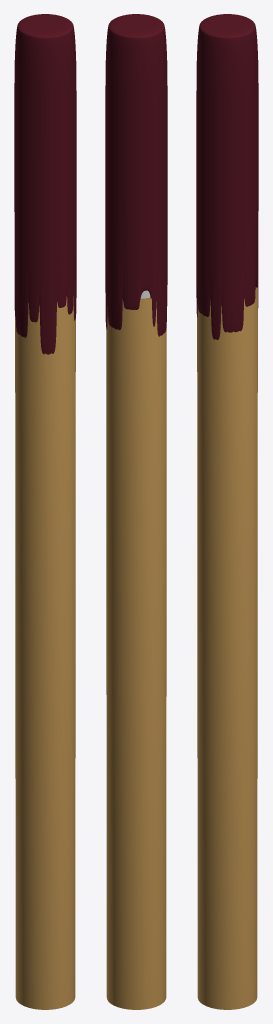
Rendered from 脆迪酥.glb.
The picture shows the model from 3 angles, left to right: view 1: azimuth 90°, elevation 25°; view 2: azimuth 210°, elevation 25°; view 3: azimuth 270°, elevation 25°; orthographic projection.
Visible parts, largest first — view 1: 圓柱體.002; view 2: 圓柱體.002; view 3: 圓柱體.002.
Boxes of the visible parts, box(x1,y1,x2,y2) form: 圓柱體.002: box(14, 14, 76, 1009); 圓柱體.002: box(105, 14, 167, 1009); 圓柱體.002: box(196, 14, 258, 1009).
Bounding box in the file's own units: 0.6905 × 11.93 × 0.6903.
